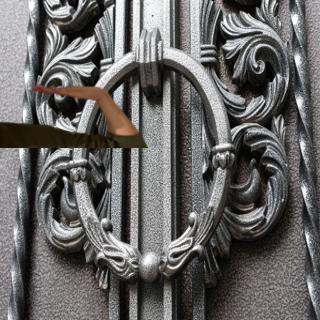WAIT: (30, 80, 110, 105)
